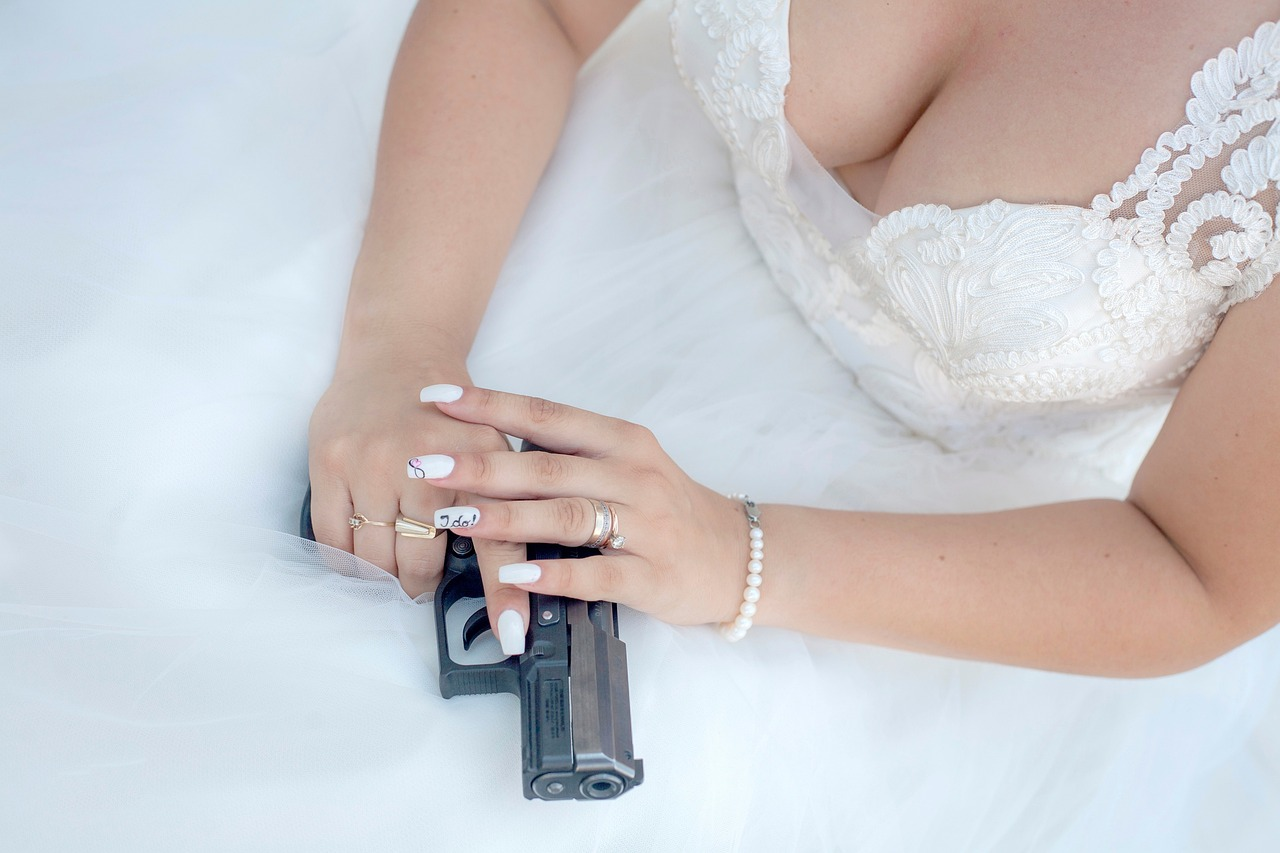gun: (293, 406, 648, 803)
